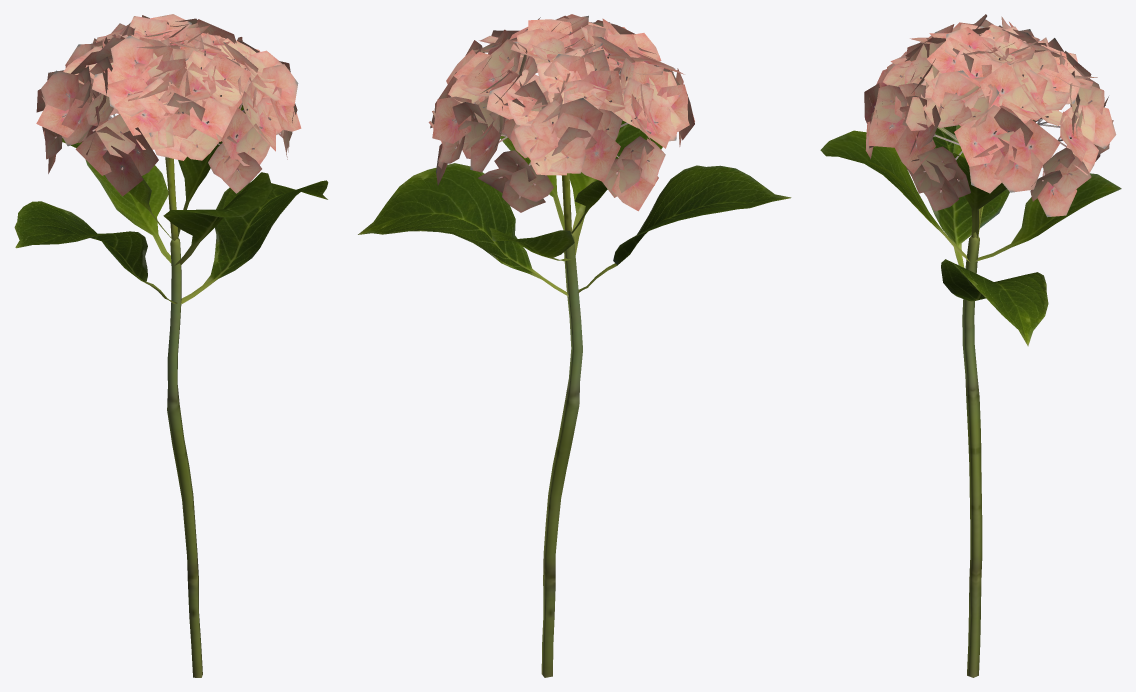
Rendered from Hydrangea_OG_normal_peach.glb.
3 views of the same model, side by side, from view 1: azimuth 30°, elevation 25°; view 2: azimuth 150°, elevation 25°; view 3: azimuth 270°, elevation 25° (orthographic). The views are drawn at different scales.
Parts seen in each view (by area): view 1: Hydrangea; view 2: Hydrangea; view 3: Hydrangea.
Part boxes in pixels (x1,y1,x2,y2): Hydrangea: [14, 14, 328, 677]; Hydrangea: [358, 14, 791, 677]; Hydrangea: [820, 14, 1121, 677].
Bounding box in the file's own units: 1.38 × 2.31 × 1.
Materials: 1 (1 with a texture image).
